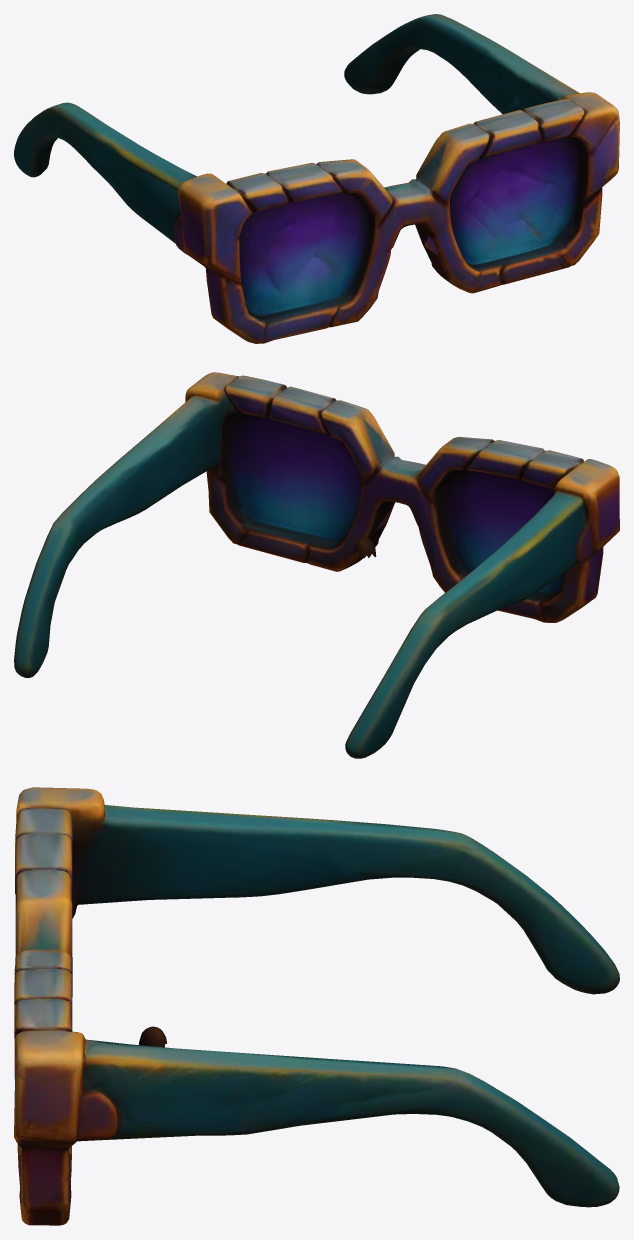
3 renders of one model, top to bottom at view 1: azimuth 30°, elevation 25°; view 2: azimuth 150°, elevation 25°; view 3: azimuth 270°, elevation 25°, orthographic. The views are drawn at different scales.
Parts seen in each view (by area): view 1: material; view 2: material; view 3: material.
Part boxes in pixels (<box>): material: <box>14,14,619,343</box>; material: <box>14,372,619,758</box>; material: <box>14,787,619,1225</box>.
Size of the model in its own units: 0.7472 by 0.2745 by 0.7179.
1 material, 1 textured.
